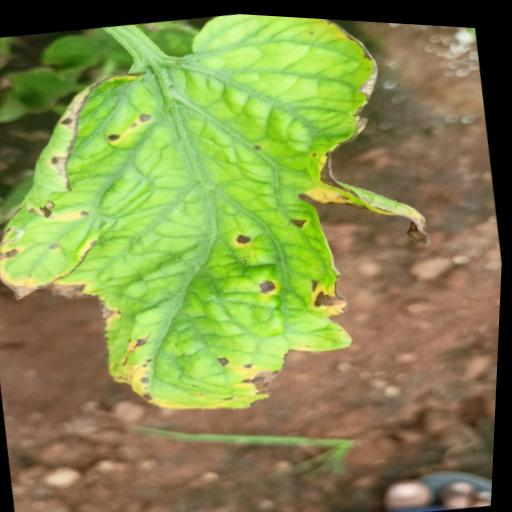Early Blight: (0, 0, 477, 457)
